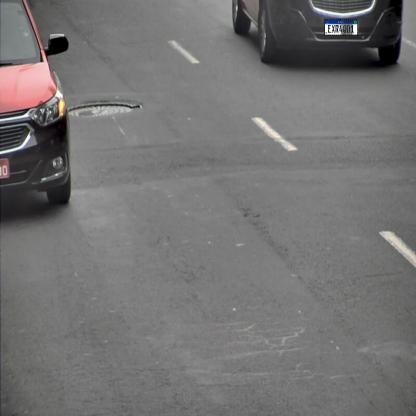PlacaM: (324, 20, 358, 36)
